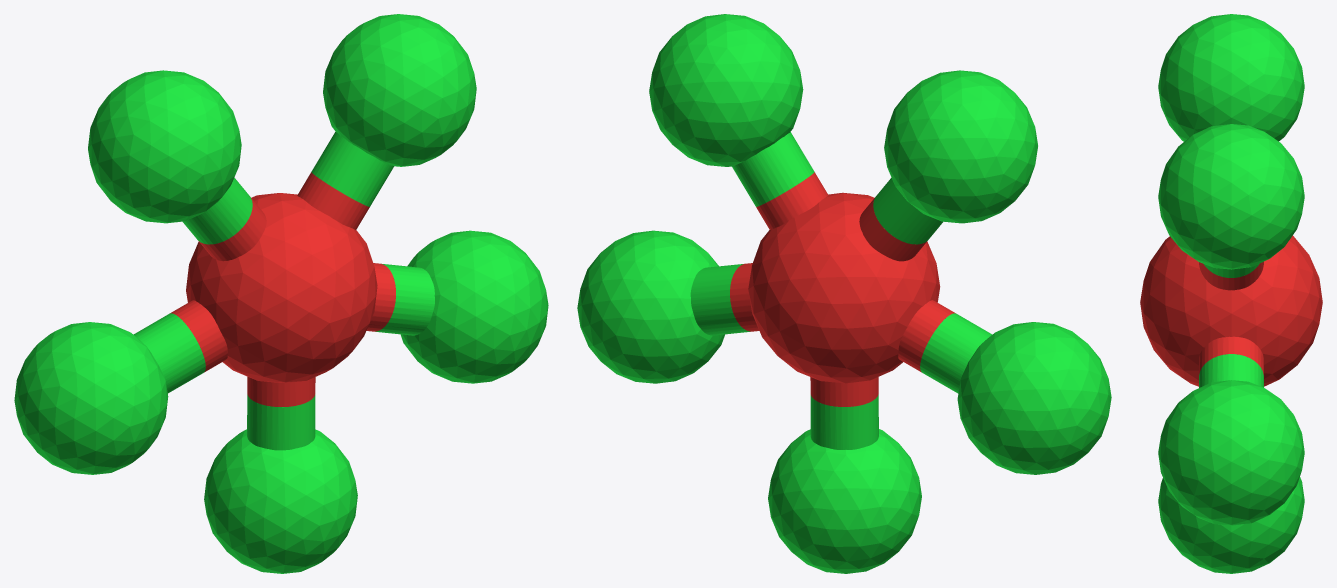
The model's file is BrF5.glb.
3 views of the same model, side by side, from view 1: azimuth 30°, elevation 25°; view 2: azimuth 150°, elevation 25°; view 3: azimuth 270°, elevation 25° (orthographic). The views are drawn at different scales.
Visible parts, largest first — view 1: Shape_IndexedFaceSet, Shape_IndexedFaceSet.004, Shape_IndexedFaceSet.003, Shape_IndexedFaceSet.001, Shape_IndexedFaceSet.002, Shape_IndexedFaceSet.005, Shape_IndexedFaceSet.019, Shape_IndexedFaceSet.013, Shape_IndexedFaceSet.016, Shape_IndexedFaceSet.006, Shape_IndexedFaceSet.010, Shape_IndexedFaceSet.021 (+4 smaller); view 2: Shape_IndexedFaceSet, Shape_IndexedFaceSet.004, Shape_IndexedFaceSet.003, Shape_IndexedFaceSet.001, Shape_IndexedFaceSet.002, Shape_IndexedFaceSet.005, Shape_IndexedFaceSet.019, Shape_IndexedFaceSet.013, Shape_IndexedFaceSet.016, Shape_IndexedFaceSet.006, Shape_IndexedFaceSet.010, Shape_IndexedFaceSet.021 (+4 smaller); view 3: Shape_IndexedFaceSet.005, Shape_IndexedFaceSet.001, Shape_IndexedFaceSet, Shape_IndexedFaceSet.004, Shape_IndexedFaceSet.002, Shape_IndexedFaceSet.006, Shape_IndexedFaceSet.008, Shape_IndexedFaceSet.021, Shape_IndexedFaceSet.019.
Boxes of the visible parts, x1,y1,x2,y2 form: Shape_IndexedFaceSet: (186, 193, 377, 382); Shape_IndexedFaceSet.004: (88, 70, 241, 223); Shape_IndexedFaceSet.003: (14, 322, 168, 474); Shape_IndexedFaceSet.001: (323, 14, 476, 166); Shape_IndexedFaceSet.002: (204, 429, 357, 573); Shape_IndexedFaceSet.005: (400, 230, 548, 383); Shape_IndexedFaceSet.019: (311, 132, 394, 206); Shape_IndexedFaceSet.013: (133, 313, 205, 393); Shape_IndexedFaceSet.016: (247, 394, 315, 450); Shape_IndexedFaceSet.006: (375, 263, 434, 335); Shape_IndexedFaceSet.010: (183, 178, 252, 244); Shape_IndexedFaceSet.021: (297, 172, 369, 229); Shape_IndexedFaceSet: (748, 192, 940, 383); Shape_IndexedFaceSet.004: (884, 70, 1037, 223); Shape_IndexedFaceSet.003: (957, 322, 1111, 474); Shape_IndexedFaceSet.001: (649, 14, 803, 166); Shape_IndexedFaceSet.002: (768, 429, 921, 573); Shape_IndexedFaceSet.005: (577, 230, 724, 383); Shape_IndexedFaceSet.019: (732, 132, 814, 206); Shape_IndexedFaceSet.013: (920, 313, 992, 393); Shape_IndexedFaceSet.016: (810, 394, 878, 449); Shape_IndexedFaceSet.006: (690, 264, 750, 335); Shape_IndexedFaceSet.010: (873, 178, 942, 244); Shape_IndexedFaceSet.021: (756, 172, 828, 229); Shape_IndexedFaceSet.005: (1158, 380, 1304, 525); Shape_IndexedFaceSet.001: (1158, 124, 1304, 269); Shape_IndexedFaceSet: (1140, 235, 1322, 386); Shape_IndexedFaceSet.004: (1158, 14, 1304, 141); Shape_IndexedFaceSet.002: (1158, 477, 1304, 573); Shape_IndexedFaceSet.006: (1199, 354, 1263, 387); Shape_IndexedFaceSet.008: (1199, 336, 1263, 374); Shape_IndexedFaceSet.021: (1199, 261, 1263, 290); Shape_IndexedFaceSet.019: (1204, 263, 1259, 277).
Size of the model in its own units: 0.5019 by 0.4841 by 0.1625.
